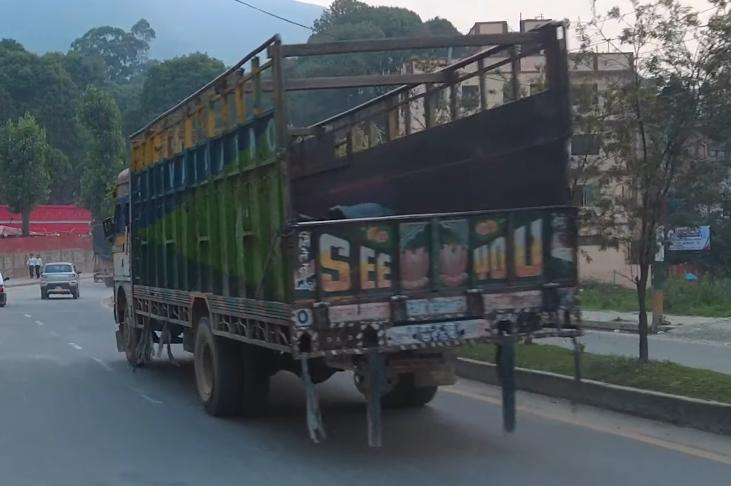car: (39, 261, 81, 299)
truck: (102, 17, 585, 420)
